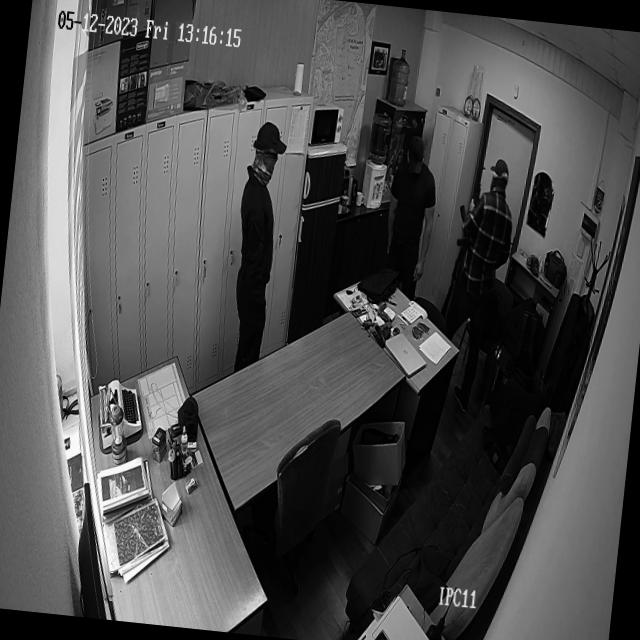gun: (451, 150, 490, 272)
person: (226, 122, 286, 378), (379, 133, 445, 294)
person with a gun: (436, 153, 520, 412)
